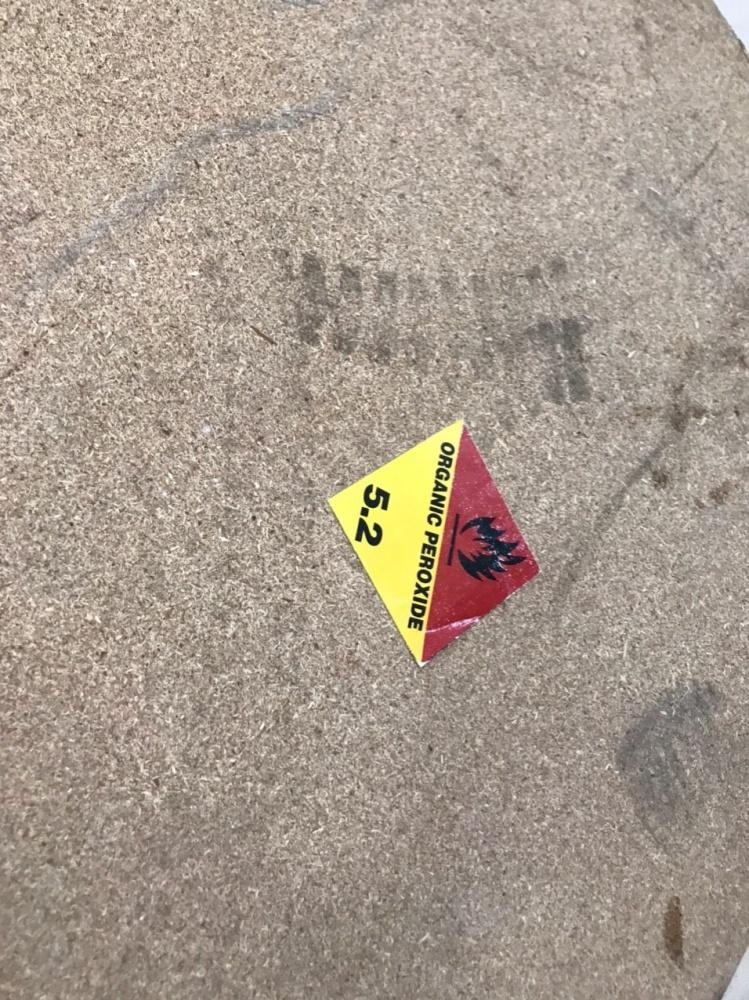organic-peroxide: (328, 415, 536, 674)
